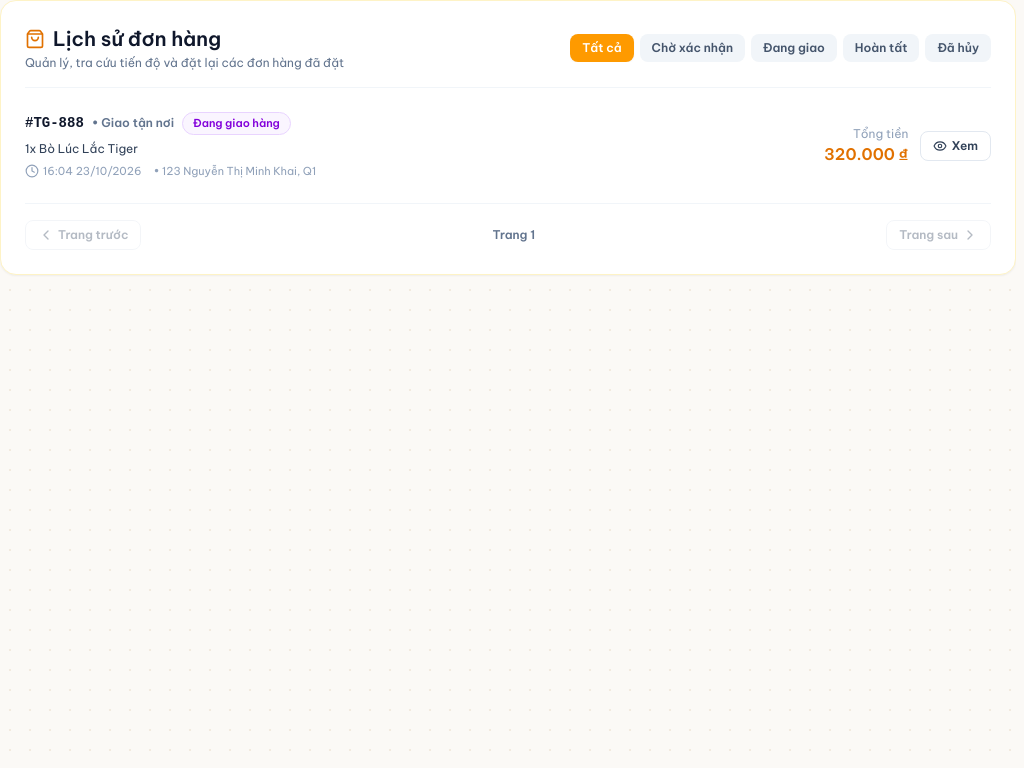
T16: Customer Account & Personalization › AccountOrdersPage › renders order list and opens order detail modal on click
Check: the text "#TG-888" is shown, box [25,113,84,133]
Check: the text "320.000 ₫" is shown, box [824,142,908,166]
Click the button "Xem" at (956, 146), box [920,130,991,160]
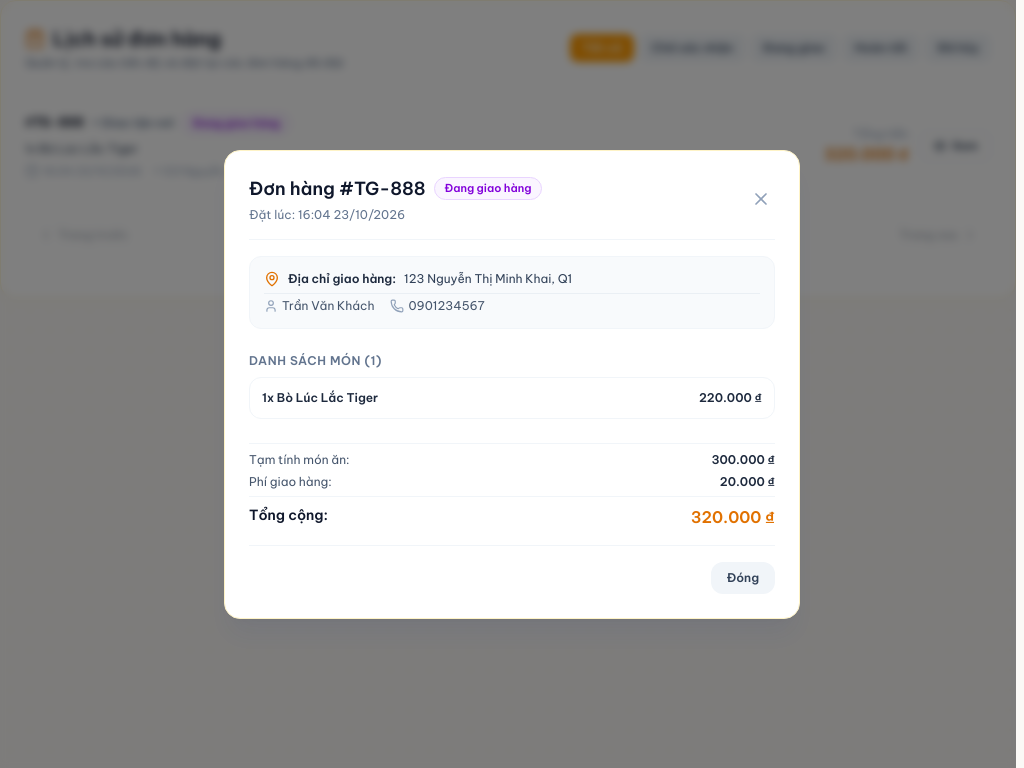
Check: the heading "Đơn hàng #TG-888" is shown, box [249,174,426,202]
